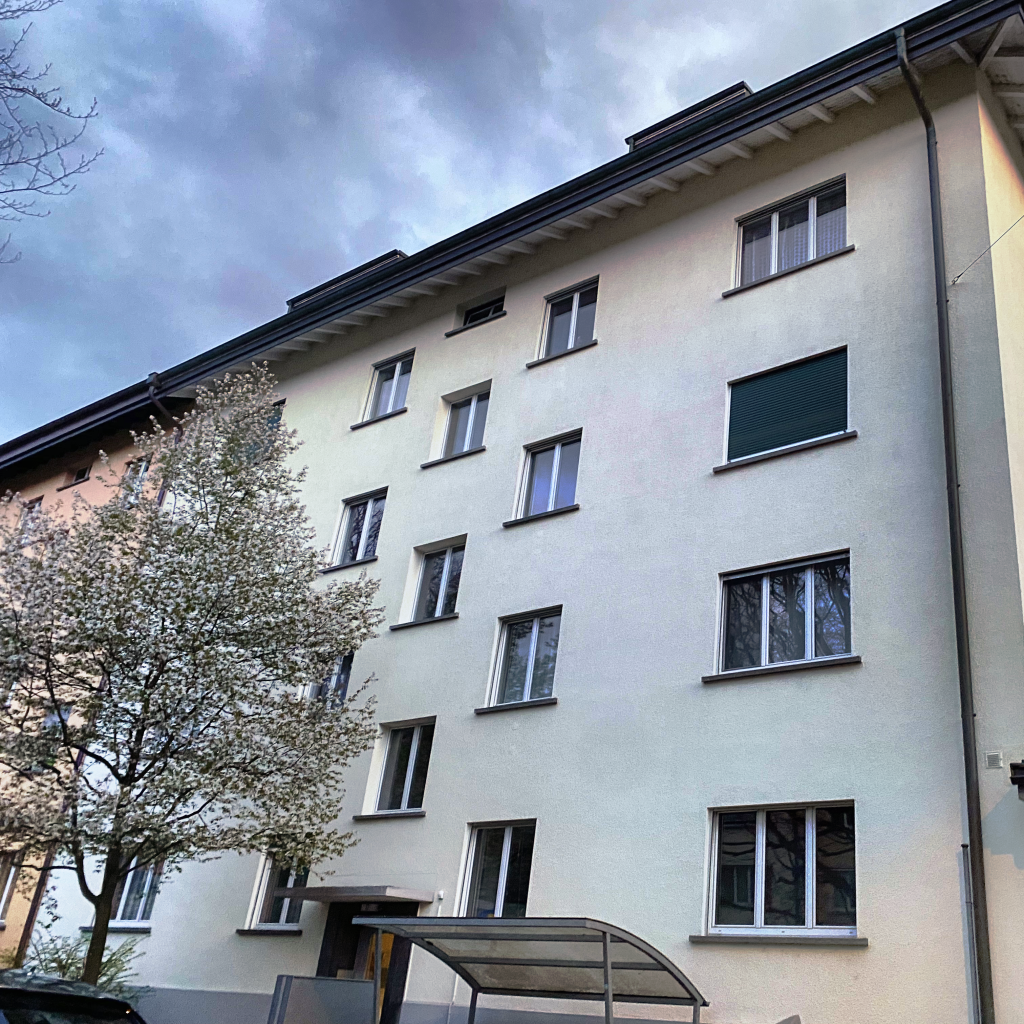glass_panel: (764, 809, 805, 926), (816, 805, 854, 926), (715, 811, 755, 925), (814, 559, 850, 656), (723, 577, 760, 669), (769, 569, 805, 661), (467, 827, 503, 917), (498, 619, 535, 703), (501, 826, 534, 917), (378, 727, 414, 809), (529, 614, 559, 698), (777, 200, 809, 271), (407, 724, 433, 808), (414, 551, 446, 619), (815, 184, 844, 255), (740, 216, 770, 283), (524, 448, 554, 514), (553, 440, 580, 507), (263, 861, 290, 923), (339, 502, 366, 563), (444, 399, 472, 456), (120, 867, 150, 920), (546, 296, 572, 354), (441, 547, 463, 613), (573, 285, 596, 346), (362, 496, 385, 557), (139, 862, 162, 920), (370, 366, 395, 417), (468, 392, 489, 448), (389, 359, 411, 410), (463, 297, 502, 325), (284, 897, 302, 923)
